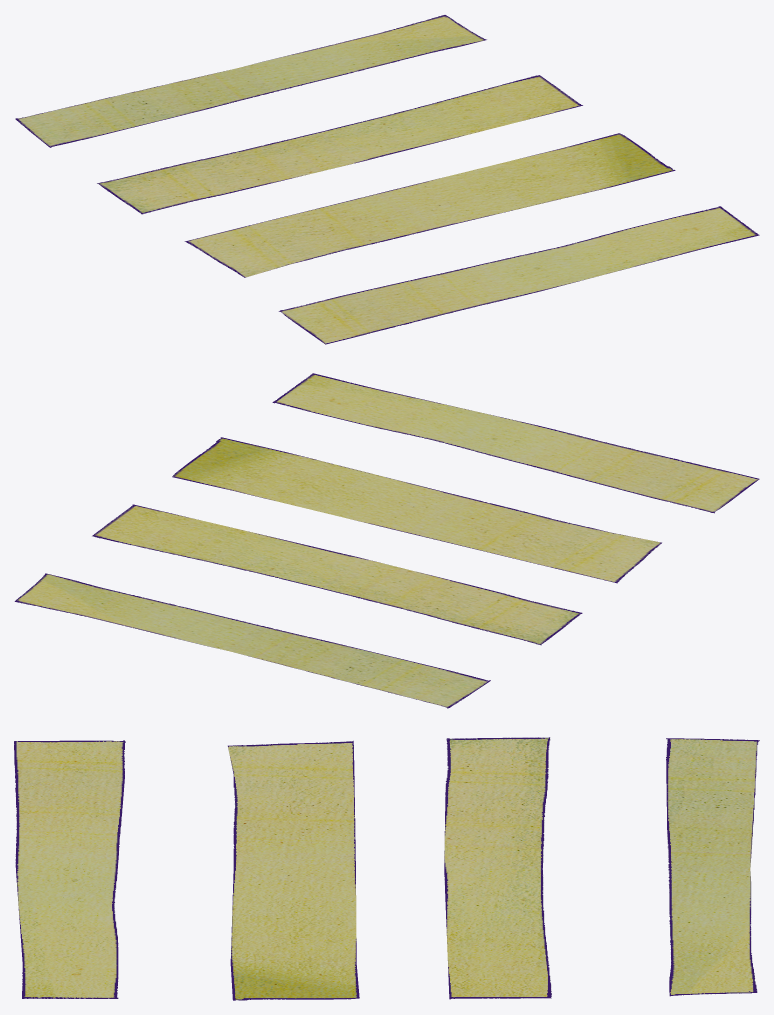
File: crossing.fbx
3 renders of one model, top to bottom at view 1: azimuth 30°, elevation 25°; view 2: azimuth 150°, elevation 25°; view 3: azimuth 270°, elevation 25°, orthographic. The views are drawn at different scales.
Parts seen in each view (by area): view 1: crossing; view 2: crossing; view 3: crossing.
Part boxes in pixels (x1,y1,x2,y2): crossing: (15, 15, 759, 344); crossing: (14, 373, 759, 708); crossing: (14, 737, 759, 1000).
Bounding box in the file's own units: 69.7 × 1.36e-05 × 83.4.
Materials: 1 (1 with a texture image).
